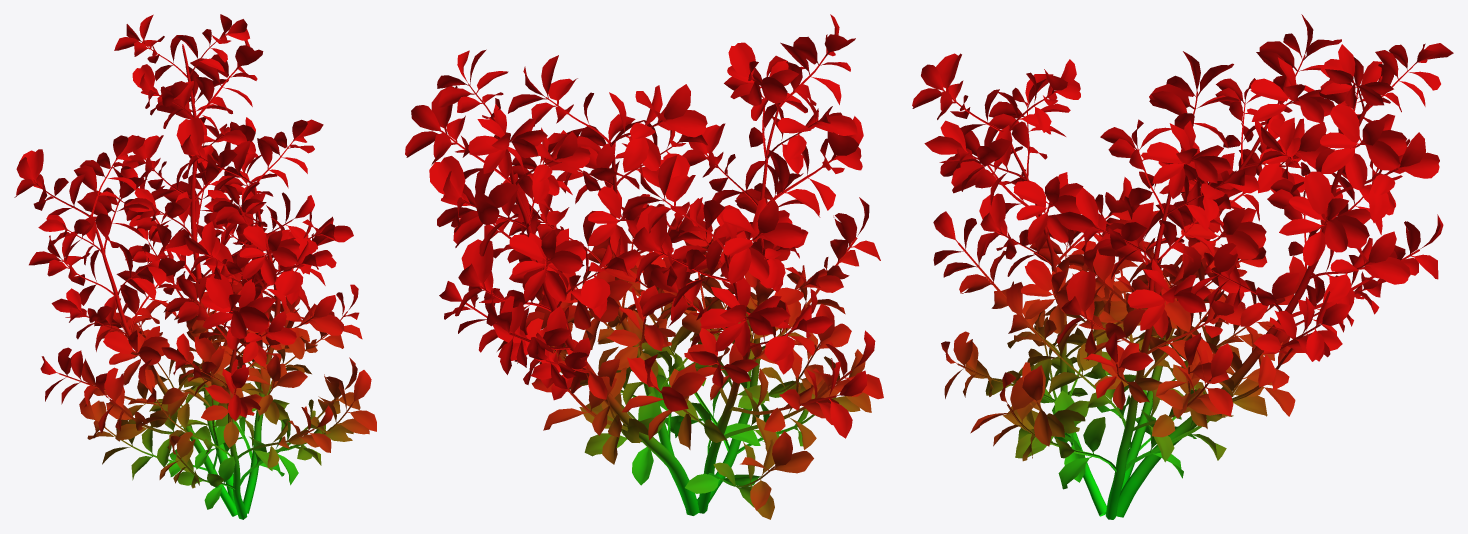
File: Var8_LOD0.fbx
3 views of the same model, side by side, from view 1: azimuth 30°, elevation 25°; view 2: azimuth 150°, elevation 25°; view 3: azimuth 270°, elevation 25° (orthographic). The views are drawn at different scales.
Parts seen in each view (by area): view 1: _iucr_Var8_LOD0; view 2: _iucr_Var8_LOD0; view 3: _iucr_Var8_LOD0.
Part boxes in pixels (left/top/right/bottom): _iucr_Var8_LOD0: left=14, top=14, right=376, bottom=519; _iucr_Var8_LOD0: left=405, top=14, right=883, bottom=519; _iucr_Var8_LOD0: left=912, top=14, right=1453, bottom=519.
Bounding box in the file's own units: 80.3 × 111 × 105.
